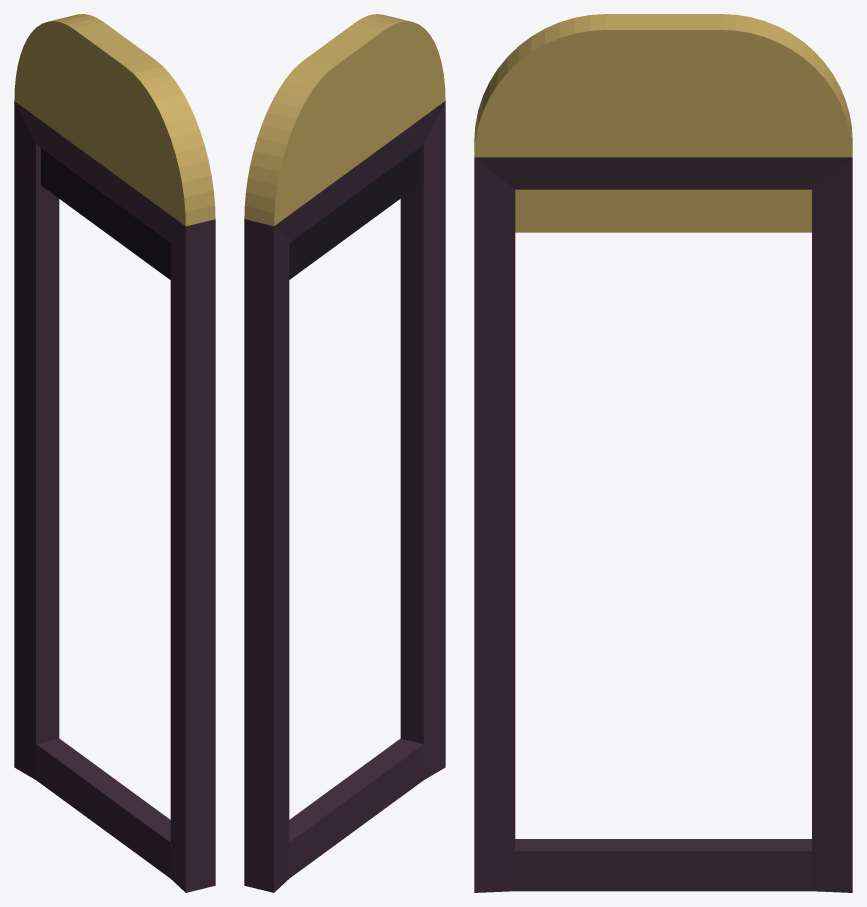
Rendered from door opened.fbx.
The picture shows the model from 3 angles, left to right: view 1: azimuth 30°, elevation 25°; view 2: azimuth 150°, elevation 25°; view 3: azimuth 270°, elevation 25°; orthographic projection. The views are drawn at different scales.
Visible parts, largest first — view 1: Plane.003, Cube; view 2: Plane.003, Cube; view 3: Plane.003, Cube.
Boxes of the visible parts, box(x1,y1,x2,y2) form: Plane.003: box(14, 14, 215, 892); Cube: box(41, 148, 170, 279); Plane.003: box(244, 14, 445, 892); Cube: box(289, 148, 418, 279); Plane.003: box(474, 14, 852, 892); Cube: box(515, 189, 811, 232).
Size of the model in its own units: 10 by 252 by 100.
